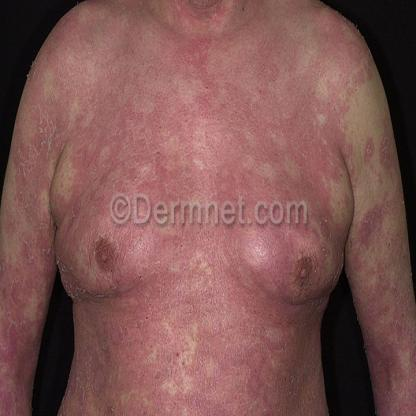Psoriasis: (66, 40, 360, 176), (74, 284, 322, 416)
